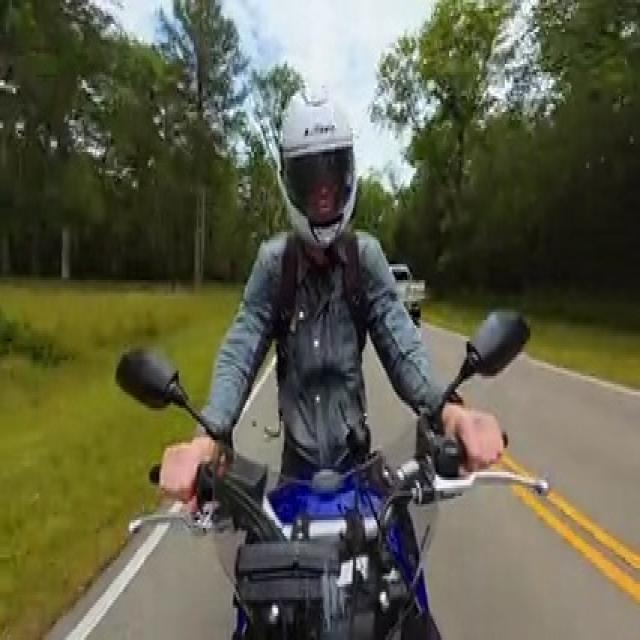Helmet_Wearer: (267, 82, 364, 246)
Person: (152, 86, 499, 479)
